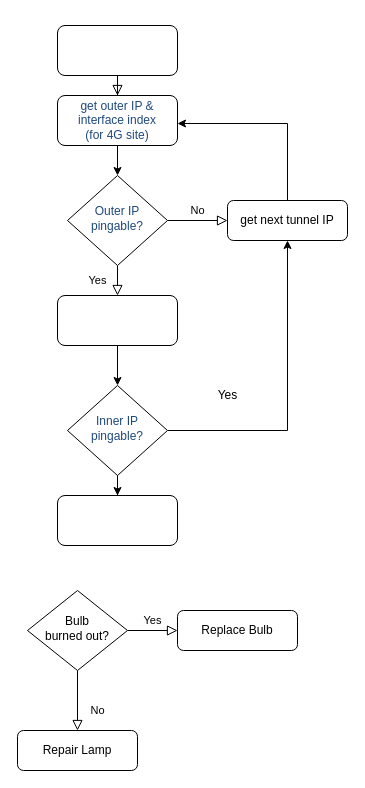
This 365x788 diagram has some shape labels left out. Each missing label, with the box of its shape:
clear security-associations: (56, 494, 178, 546)
get inner IP (for 4G site): (56, 294, 178, 346)
List all down Tunnel IP on Node last 24 hours: (56, 24, 178, 76)
